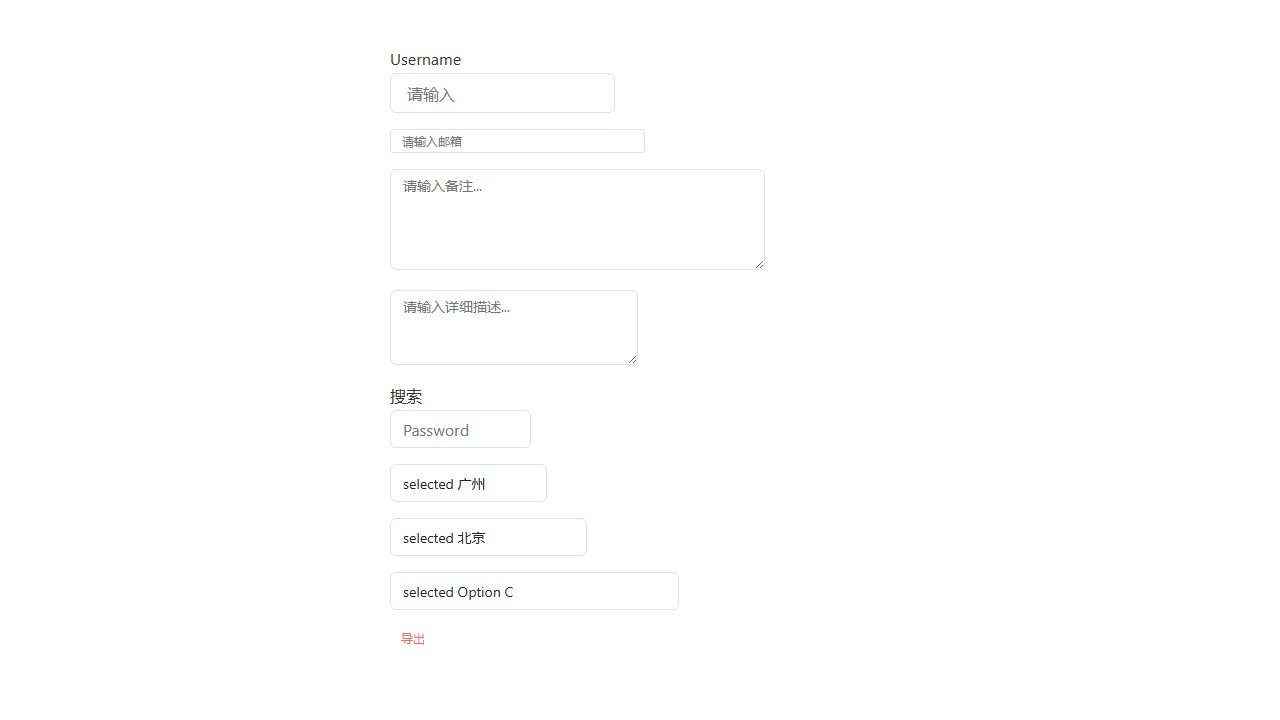button: (390, 627, 436, 649)
input: (390, 73, 615, 113), (390, 129, 645, 153), (390, 410, 531, 448)
select: (390, 572, 679, 610), (390, 518, 587, 556), (390, 464, 547, 502)
textarea: (390, 169, 765, 270), (390, 290, 638, 365)
